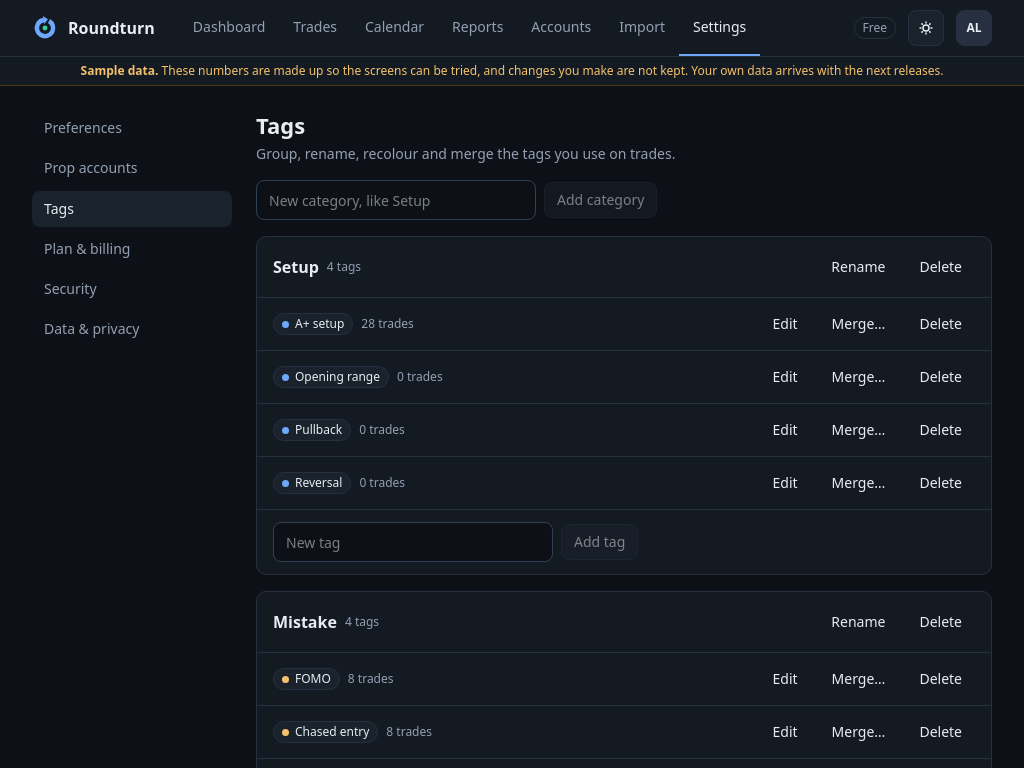
Test: the tags screen › adds a tag to a category with no trades on it yet
Check: the heading "Tags" is shown, box [256,110,305,140]
Check: the element named "Category Setup" is shown, box [256,236,992,575]
Type "Gap fade" into the field named "New tag in Setup".
click(413, 542); type("Gap fade")  # box [273,522,553,562]
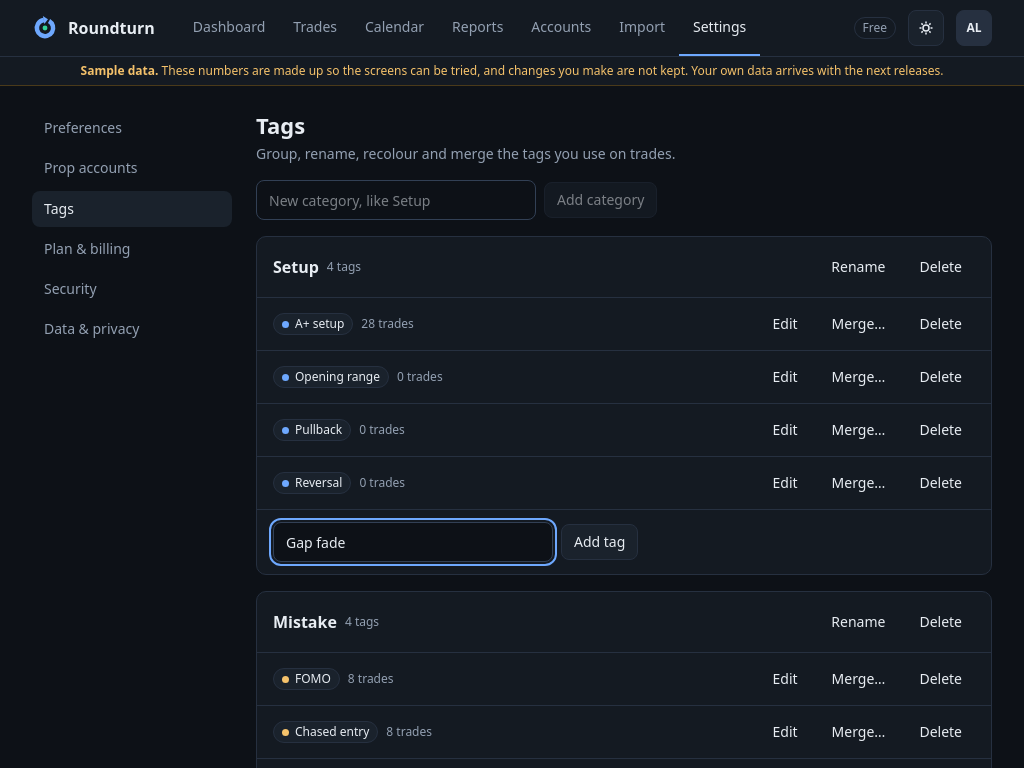
Click the button "Add tag".
click(600, 542)  # box [561,524,638,560]
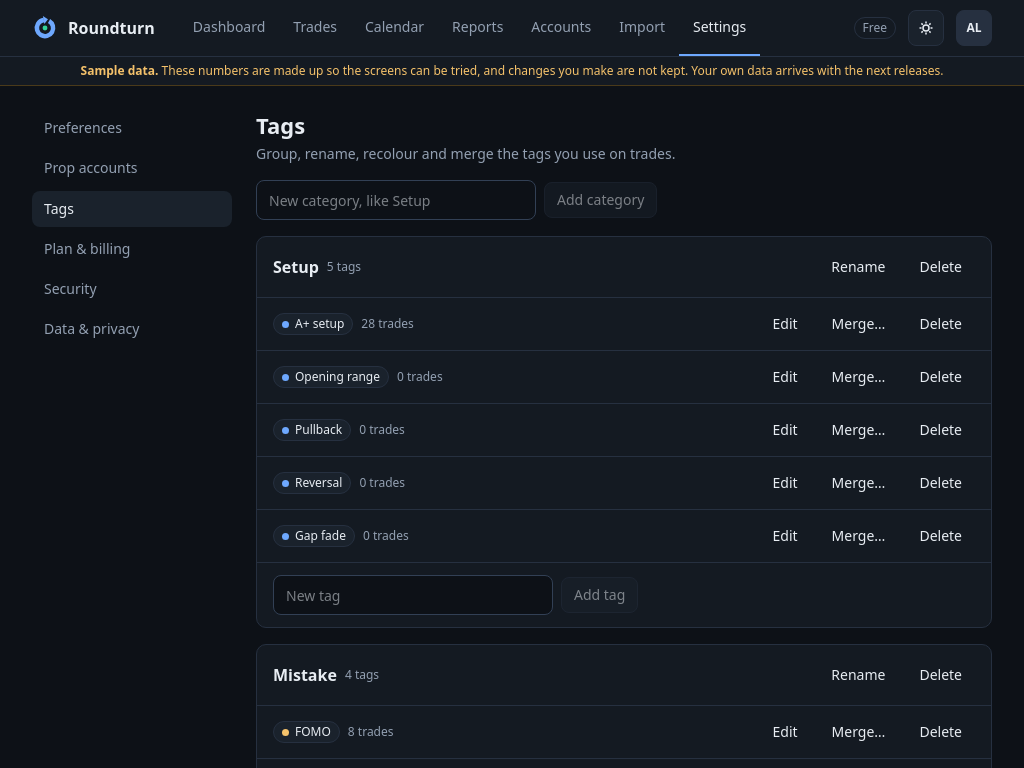
Check: the list item "Gap fade" shows "0 trades", box [363,527,409,544]
Check: the text "5 tags" is shown, box [327,259,361,275]
